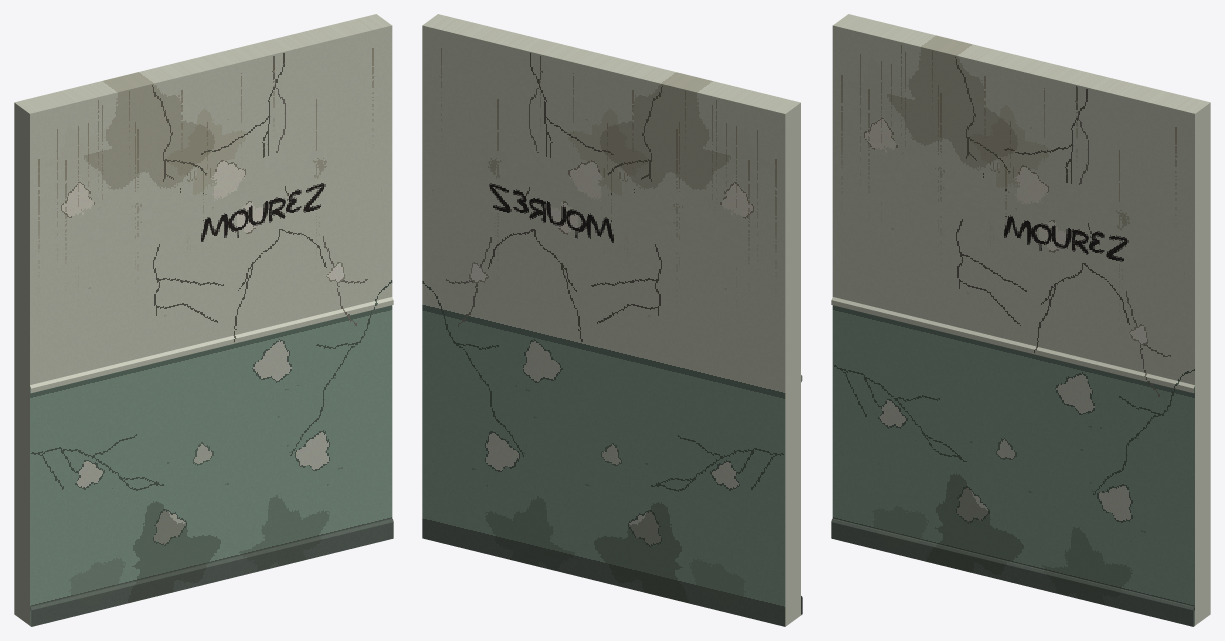
File: wall_4_mourez.glb
3 views of the same model, side by side, from view 1: azimuth 30°, elevation 25°; view 2: azimuth 150°, elevation 25°; view 3: azimuth 330°, elevation 25° (orthographic).
Parts seen in each view (by area): view 1: wall_body; view 2: wall_body; view 3: wall_body.
Boxes of the visible parts, x1,y1,x2,y2 form: wall_body: [14, 14, 393, 626]; wall_body: [422, 14, 802, 626]; wall_body: [831, 14, 1210, 626].
Size of the model in its own units: 2 by 2.7 by 0.1656.
Materials: 1 (1 with a texture image).
